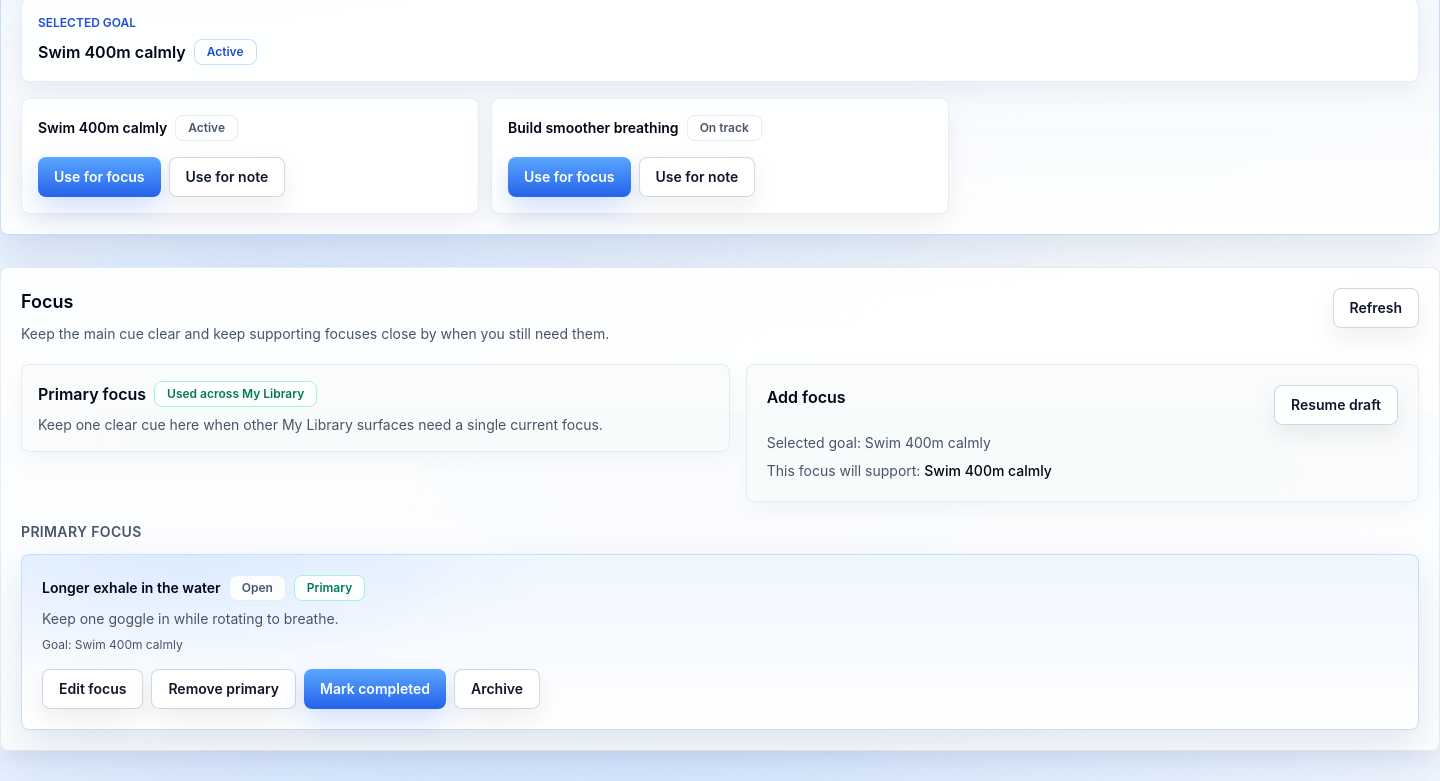
TrainingContextHub › highlights the note workflow when the goal intent is note
This screenshot has width=1440, height=781.
(page scrolled)
Click the button with test id "training-focus-form-toggle" at (1336, 405), box [1274, 385, 1398, 425]
(page scrolled)
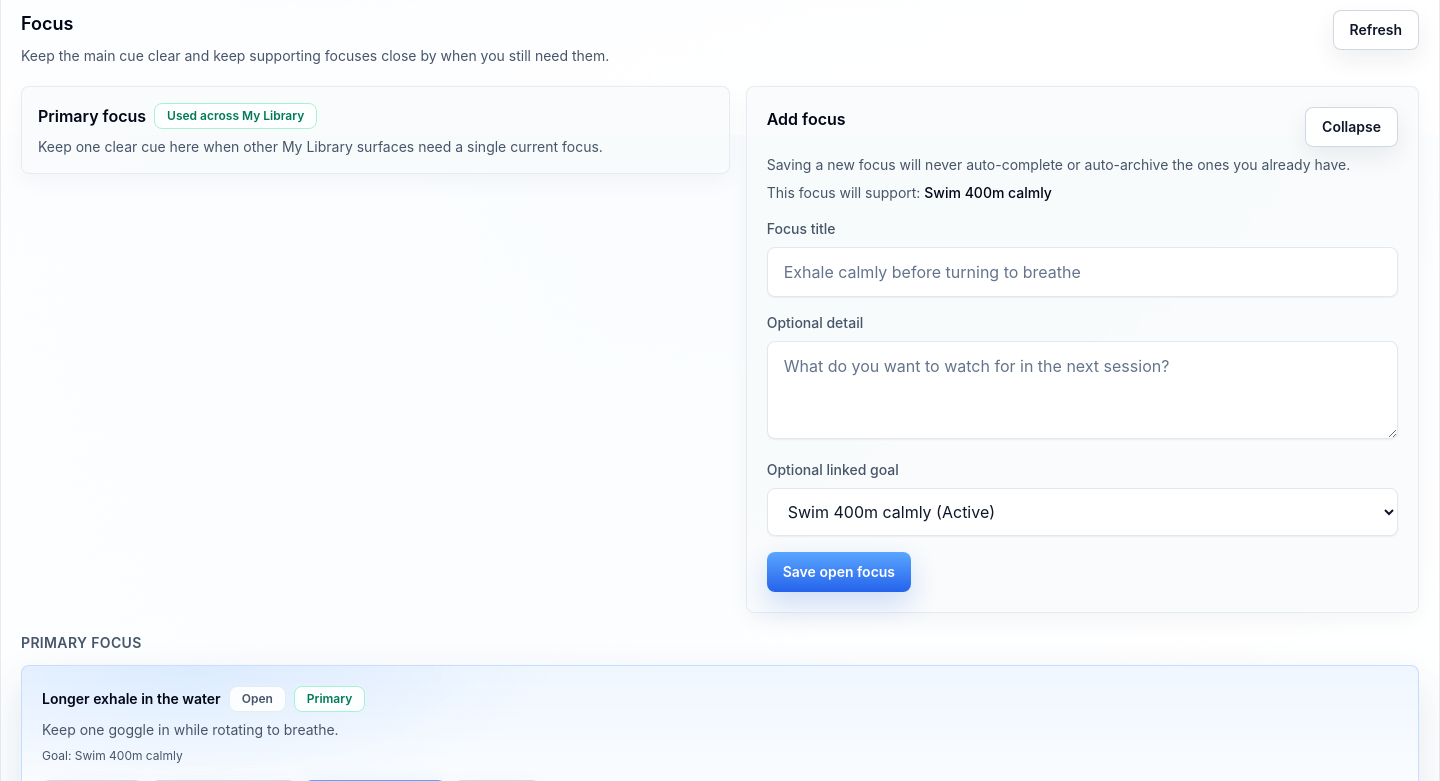
Expected: the dropdown with test id "training-focus-goal-select" shows "Swim 400m calmly (Active)", [767, 488, 1398, 536]
